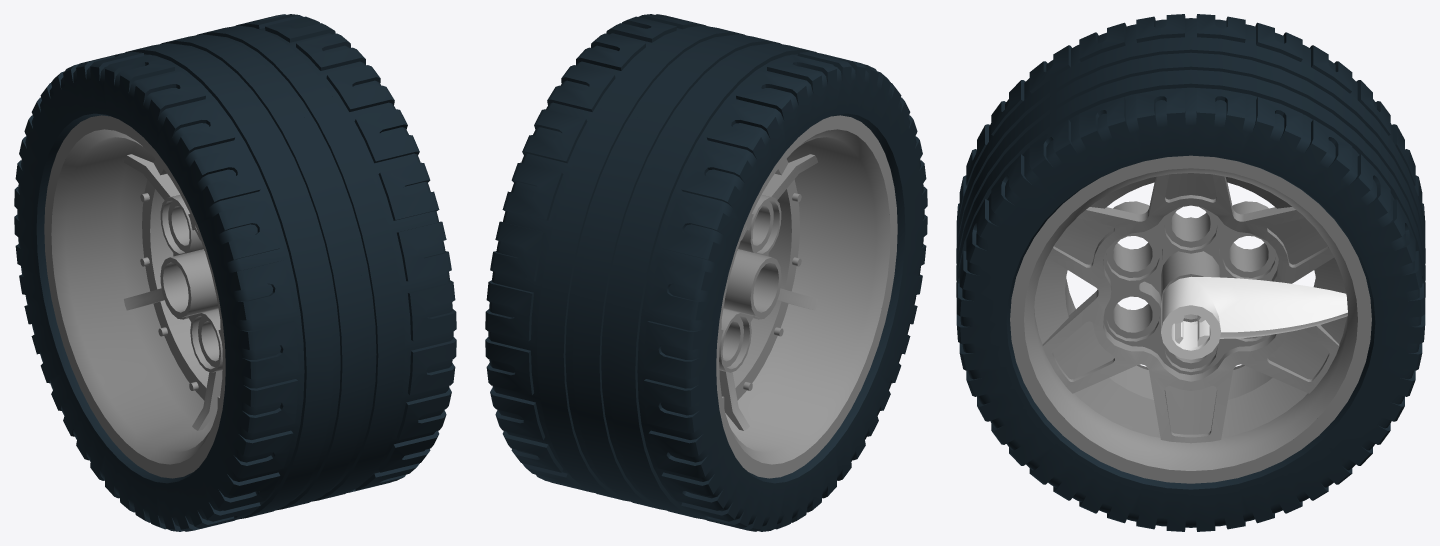
Rendered from modelo_base_diff_wheel_right.dae.
3 renders of one model, left to right at view 1: azimuth 30°, elevation 25°; view 2: azimuth 150°, elevation 25°; view 3: azimuth 270°, elevation 25°, orthographic. The views are drawn at different scales.
Bounding box in the file's own units: 77 × 140 × 140.
